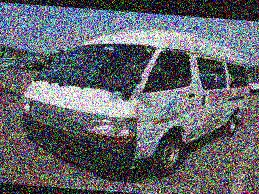van: (18, 16, 258, 185)
